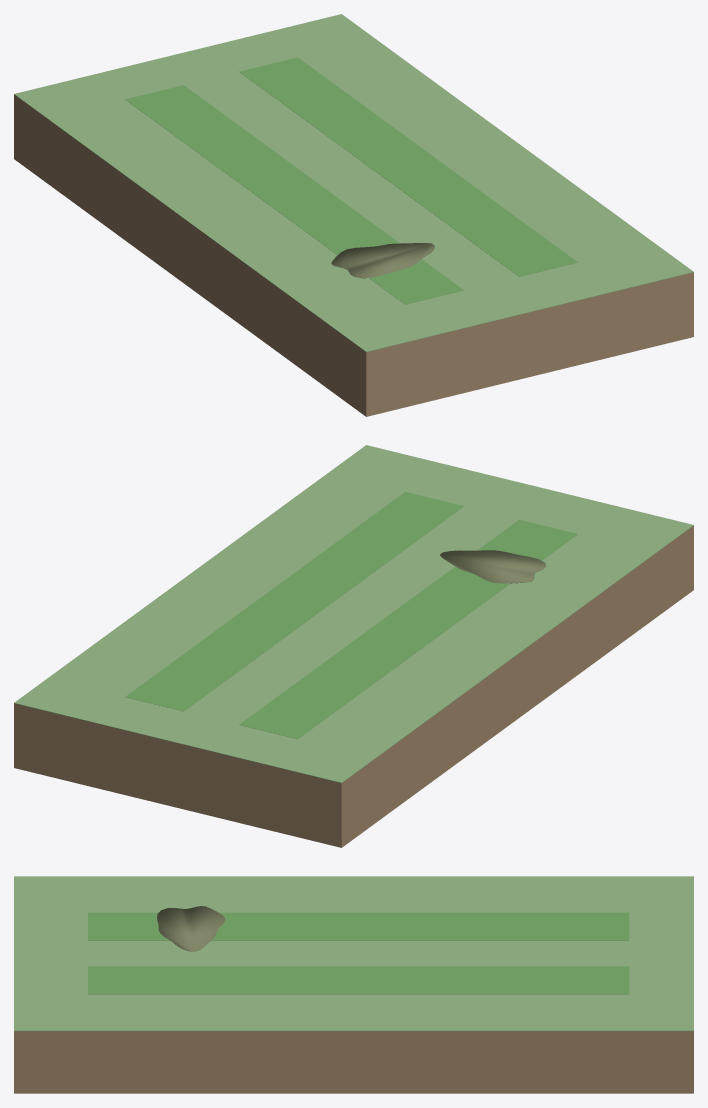
Rendered from septic_field_dbox_slab.glb.
The picture shows the model from 3 angles, top to bottom: view 1: azimuth 30°, elevation 25°; view 2: azimuth 150°, elevation 25°; view 3: azimuth 270°, elevation 25°; orthographic projection. The views are drawn at different scales.
Parts seen in each view (by area): view 1: grass, grass_section, soil, lush_strips, soil_section, wet_spot; view 2: grass, grass_section, soil, lush_strips, soil_section, wet_spot; view 3: grass, soil, grass_section, lush_strips, soil_section, wet_spot.
Part boxes in pixels (x1,y1,x2,y2): grass: (14, 14, 693, 352); grass_section: (14, 14, 633, 307); soil: (14, 95, 693, 416); lush_strips: (125, 57, 577, 304); soil_section: (14, 95, 306, 372); wet_spot: (331, 243, 434, 278); grass: (14, 445, 693, 783); grass_section: (14, 490, 633, 782); soil: (14, 526, 693, 847); lush_strips: (125, 492, 577, 739); soil_section: (341, 574, 633, 847); wet_spot: (440, 550, 546, 583); grass: (14, 876, 693, 1031); soil: (14, 1031, 693, 1093); grass_section: (129, 876, 693, 1031); lush_strips: (88, 912, 629, 994); soil_section: (129, 1031, 693, 1093); wet_spot: (157, 906, 225, 951).
Size of the model in its own units: 7.89 by 1.5 by 14.68.
